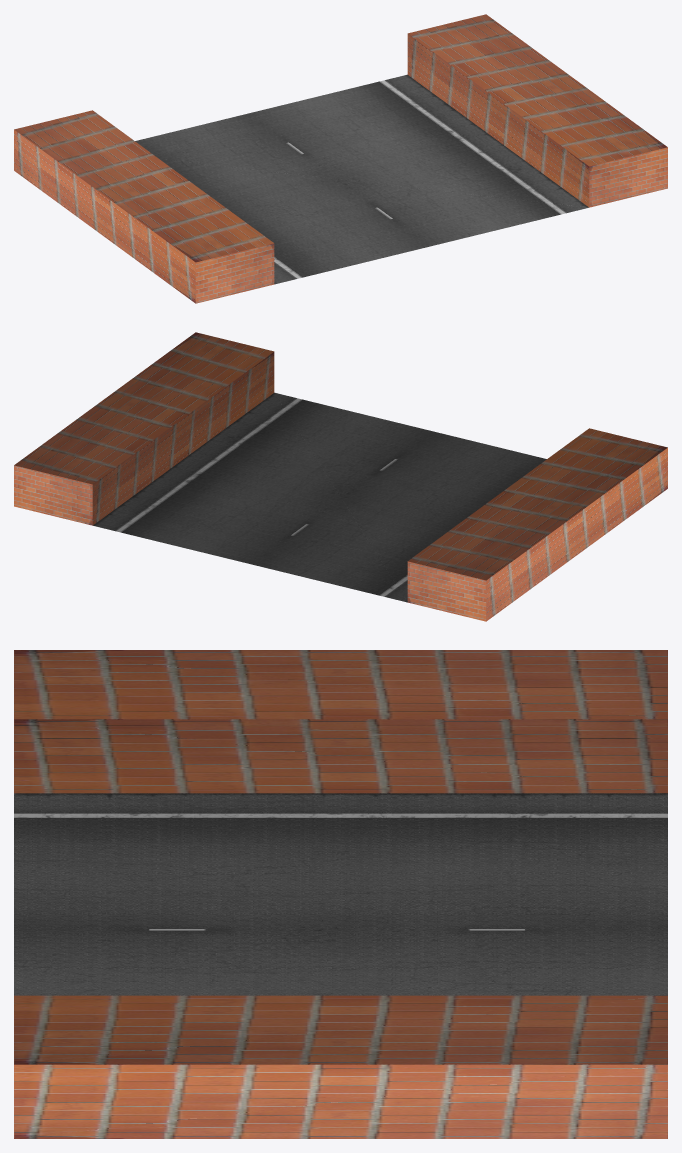
Rendered from segmentoReta.obj.
3 views of the same model, one above another, from view 1: azimuth 30°, elevation 25°; view 2: azimuth 150°, elevation 25°; view 3: azimuth 270°, elevation 25° (orthographic). The views are drawn at different scales.
Parts seen in each view (by area): view 1: wall, cube; view 2: wall, cube; view 3: wall, cube.
Boxes of the visible parts, <box> form: wall: <box>14,14,667,303</box>; cube: <box>135,74,588,284</box>; wall: <box>14,332,667,621</box>; cube: <box>93,392,546,602</box>; wall: <box>14,650,667,1138</box>; cube: <box>14,793,667,995</box>.
Bounding box in the file's own units: 12 × 1 × 8.
Materials: 2 (2 with a texture image).
